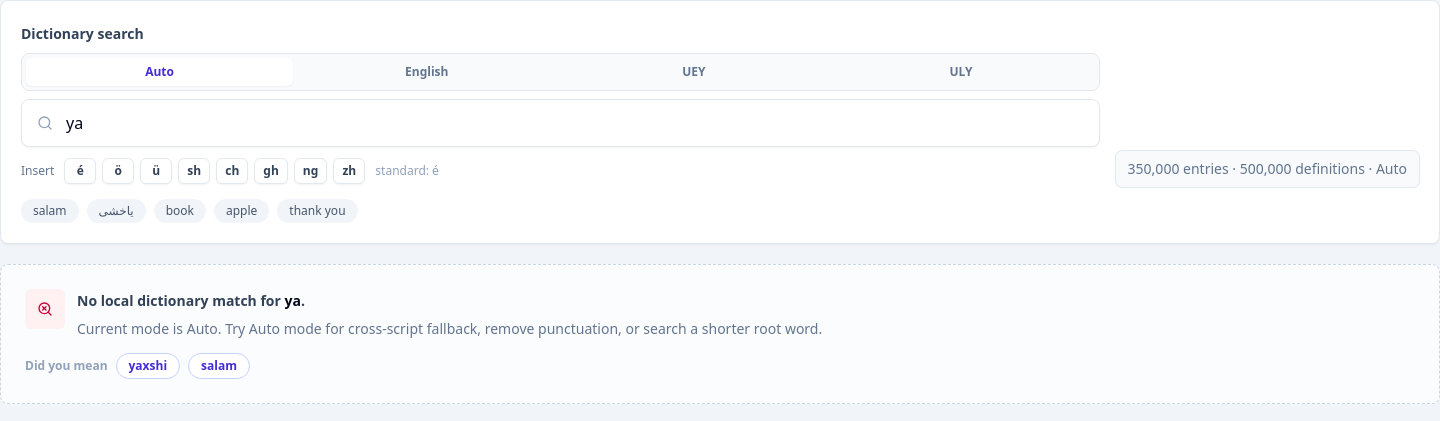
DictionaryPanel › chooses suggestions with the keyboard
Focus the dropdown labelled "Dictionary search": (560, 123) [21,99,1100,147]
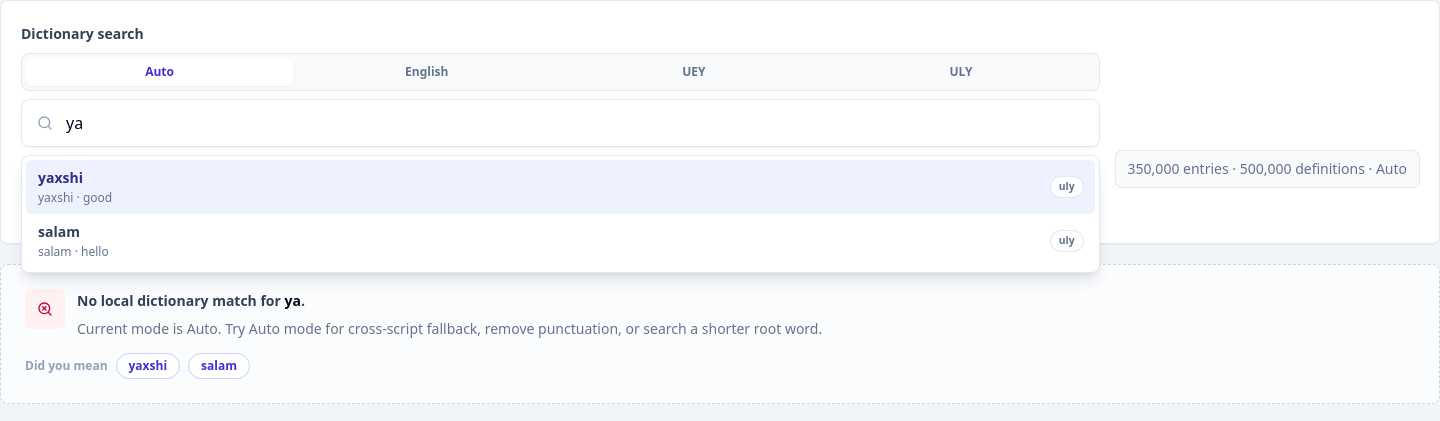
Press ArrowDown in the dropdown labelled "Dictionary search", box [21,99,1100,147]
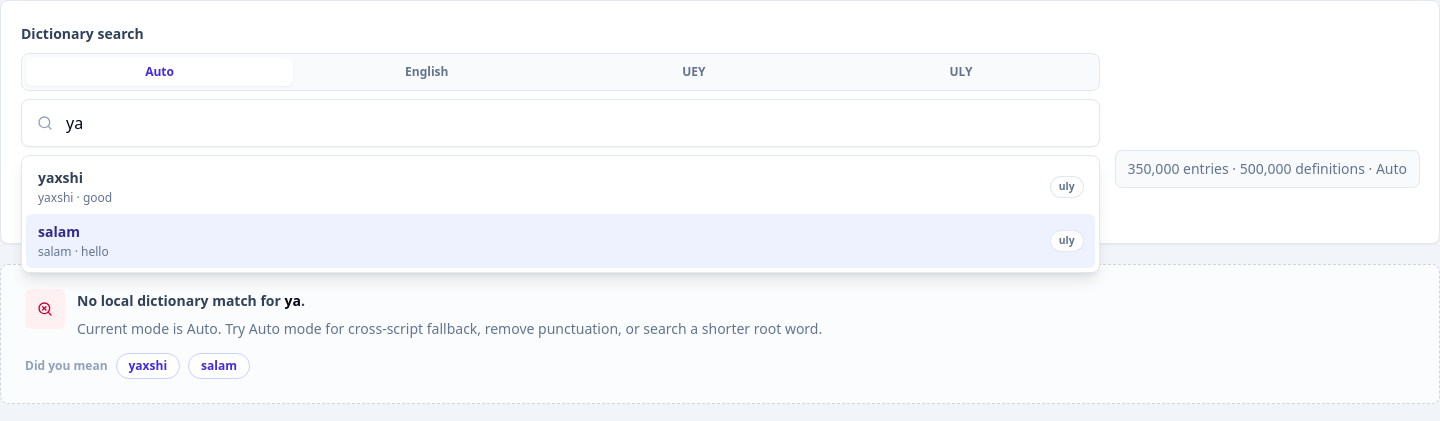
Press Enter in the dropdown labelled "Dictionary search", box [21,99,1100,147]
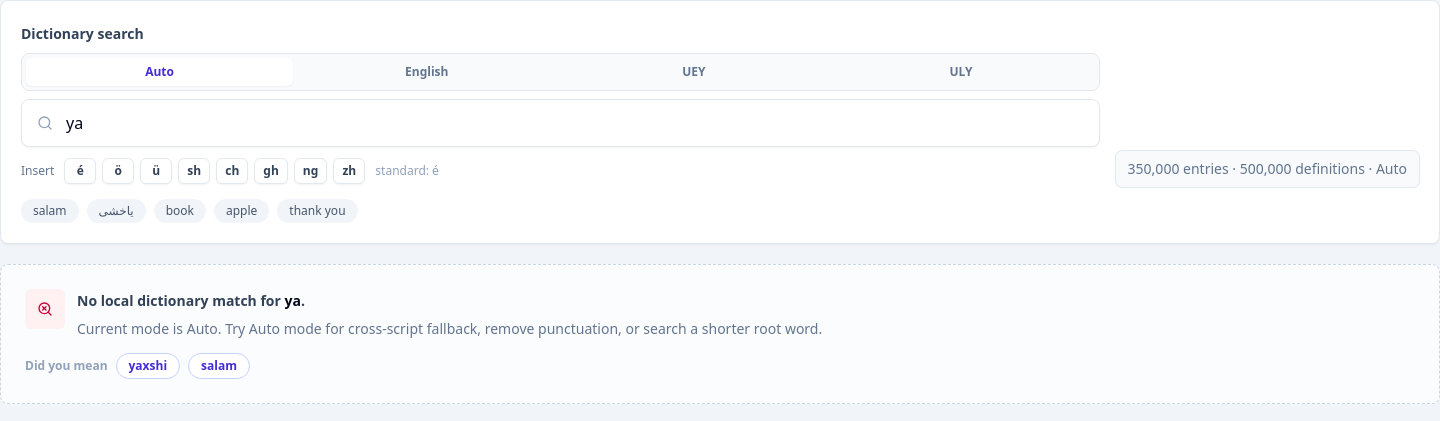
Expected: the list is gone
